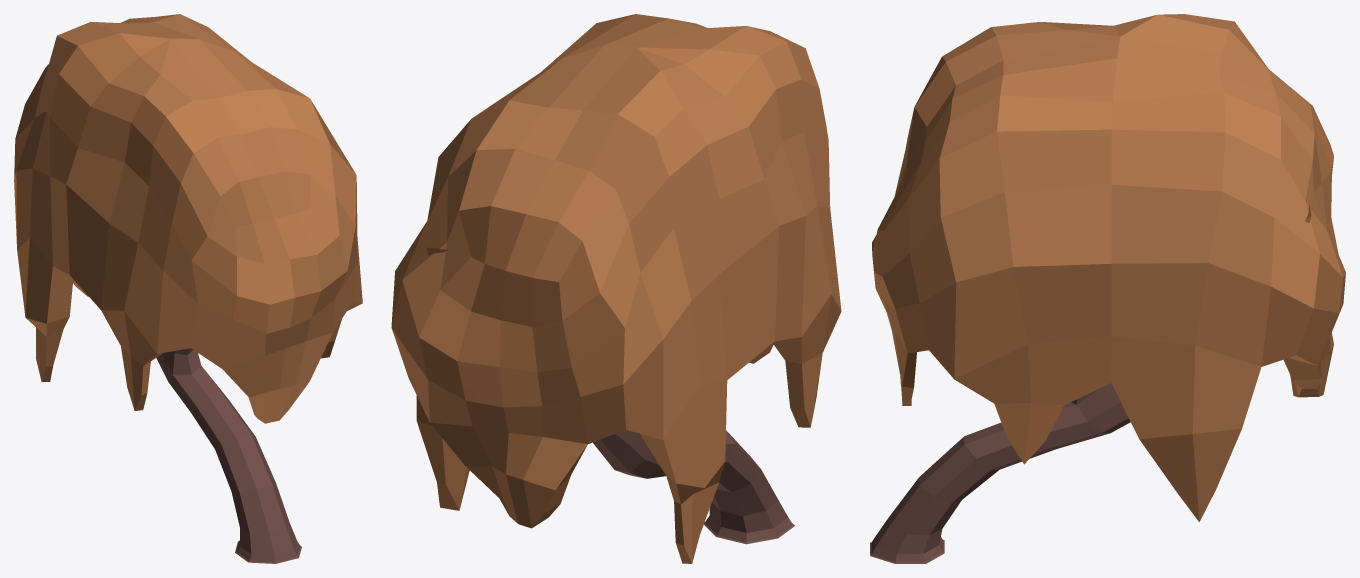
Rendered from Willow_Autumn_3.glb.
3 renders of one model, left to right at view 1: azimuth 30°, elevation 25°; view 2: azimuth 150°, elevation 25°; view 3: azimuth 270°, elevation 25°, orthographic. The views are drawn at different scales.
Visible parts, largest first — view 1: Willow_Autumn_3; view 2: Willow_Autumn_3; view 3: Willow_Autumn_3.
Part boxes in pixels (x1,y1,x2,y2): Willow_Autumn_3: (14,14,362,563); Willow_Autumn_3: (391,14,841,563); Willow_Autumn_3: (870,14,1345,563).
Bounding box in the file's own units: 1.32 × 2.35 × 1.98.
